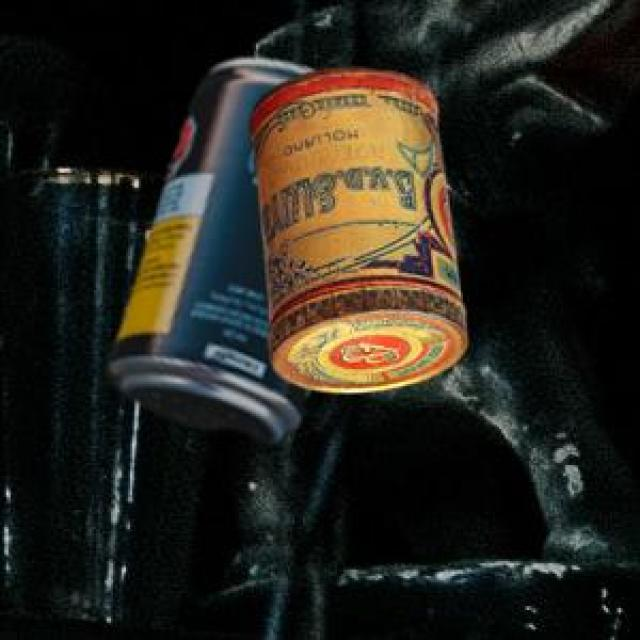logam: (106, 54, 313, 441), (246, 65, 464, 389)
